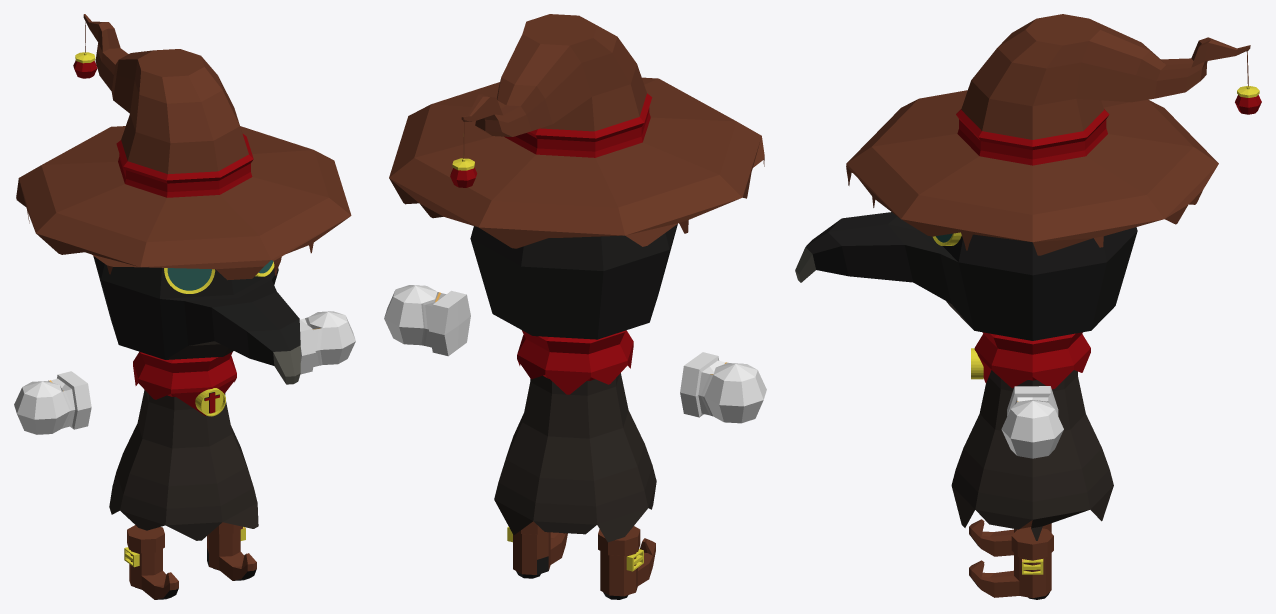
The model's file is PersonagemPrincipal.fbx.
3 renders of one model, left to right at view 1: azimuth 30°, elevation 25°; view 2: azimuth 150°, elevation 25°; view 3: azimuth 270°, elevation 25°, orthographic. The views are drawn at different scales.
Visible parts, largest first — view 1: Personagem, Mao direita, Mao esquerda, Bota Direita, Bota esquerda, Oculos direito, Pingente, Penduricalho; view 2: Personagem, Mao direita, Mao esquerda, Bota Direita, Bota esquerda, Penduricalho; view 3: Personagem, Mao esquerda, Bota esquerda, Bota Direita, Penduricalho.
Part boxes in pixels (bbox=[...]): Personagem: bbox=[16, 14, 351, 540]; Mao direita: bbox=[14, 371, 91, 434]; Mao esquerda: bbox=[299, 311, 355, 374]; Bota Direita: bbox=[127, 525, 178, 599]; Bota esquerda: bbox=[207, 522, 256, 580]; Oculos direito: bbox=[164, 268, 215, 293]; Pingente: bbox=[195, 388, 225, 416]; Penduricalho: bbox=[73, 52, 97, 78]; Personagem: bbox=[389, 14, 764, 542]; Mao direita: bbox=[680, 352, 766, 423]; Mao esquerda: bbox=[384, 285, 470, 356]; Bota Direita: bbox=[598, 526, 655, 599]; Bota esquerda: bbox=[513, 521, 567, 578]; Penduricalho: bbox=[450, 158, 477, 187]; Personagem: bbox=[795, 14, 1250, 540]; Mao esquerda: bbox=[1001, 386, 1063, 458]; Bota esquerda: bbox=[969, 527, 1053, 599]; Bota Direita: bbox=[969, 519, 1051, 556]; Penduricalho: bbox=[1235, 86, 1261, 114].
Bounding box in the file's own units: 358 × 513 × 399.
